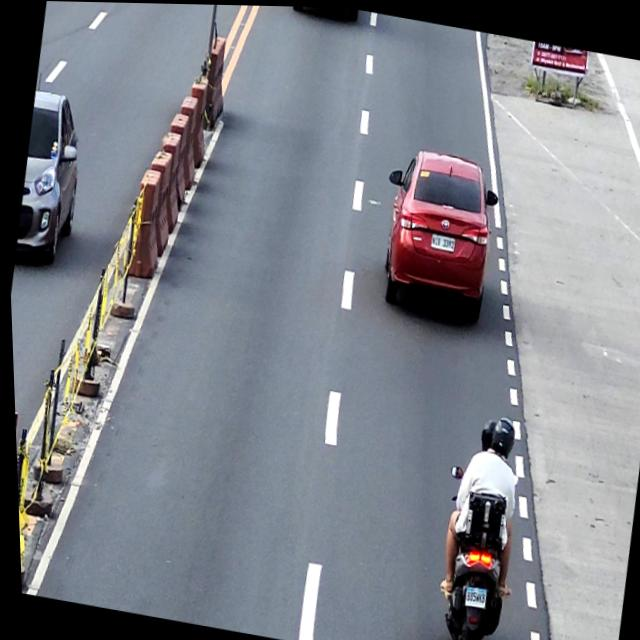Car: (366, 141, 507, 321), (9, 86, 92, 265)
License-Plate: (458, 583, 483, 609), (427, 229, 456, 251)
Motorcycle: (416, 461, 520, 640)
